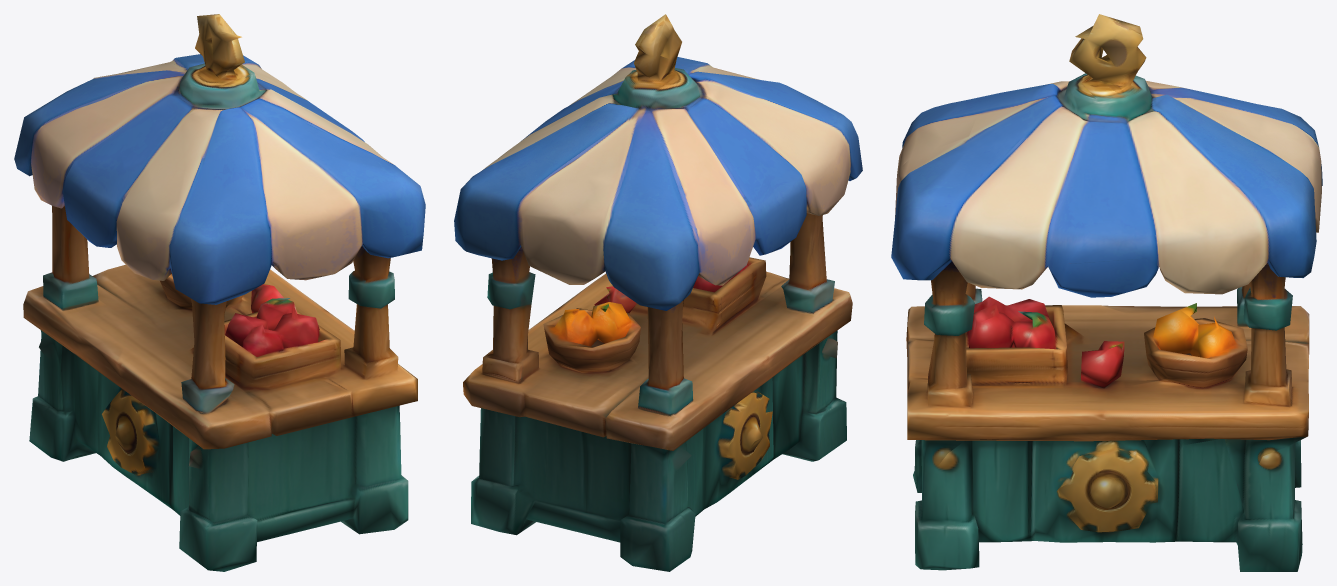
Rendered from Kit_X_StallBlue_raw.glb.
3 renders of one model, left to right at view 1: azimuth 30°, elevation 25°; view 2: azimuth 150°, elevation 25°; view 3: azimuth 270°, elevation 25°, orthographic. The views are drawn at different scales.
Parts seen in each view (by area): view 1: tripo_node_32eafbd4-2536-44d5-aadb-06a0951586a0; view 2: tripo_node_32eafbd4-2536-44d5-aadb-06a0951586a0; view 3: tripo_node_32eafbd4-2536-44d5-aadb-06a0951586a0.
Boxes of the visible parts, bbox=[...] form: tripo_node_32eafbd4-2536-44d5-aadb-06a0951586a0: bbox=[14, 14, 425, 571]; tripo_node_32eafbd4-2536-44d5-aadb-06a0951586a0: bbox=[454, 14, 862, 571]; tripo_node_32eafbd4-2536-44d5-aadb-06a0951586a0: bbox=[891, 14, 1322, 571].
Bounding box in the file's own units: 0.5795 × 1 × 0.7743.
1 material, 1 textured.
